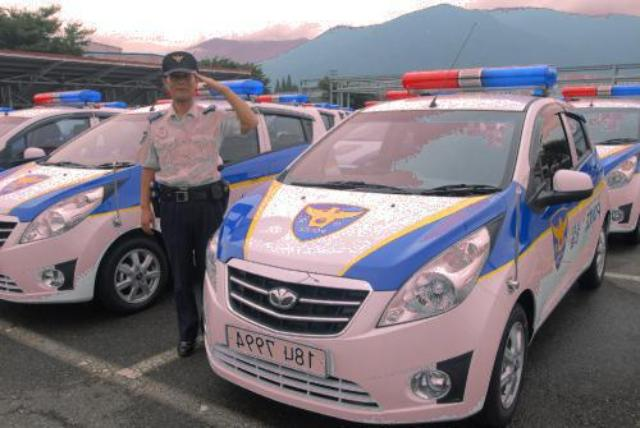police_car: (204, 67, 612, 424), (3, 84, 325, 308)
